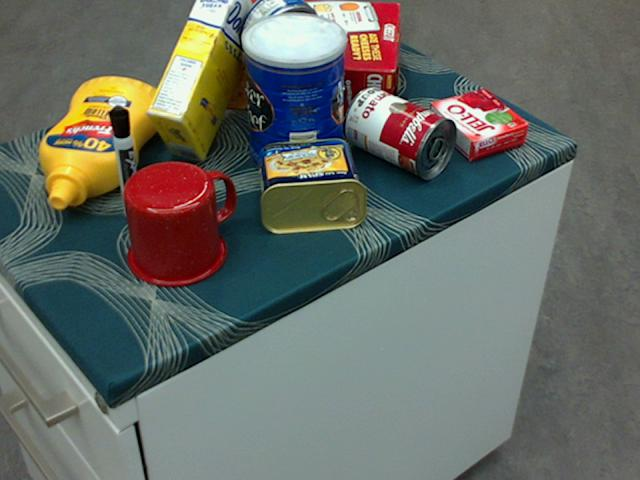cracker_box: (203, 0, 398, 117)
gelatin_box: (428, 89, 528, 159)
large_marker: (107, 105, 144, 218)
master_chef_can: (241, 12, 346, 181)
mug: (123, 159, 236, 286)
mustard_bottle: (38, 77, 163, 208)
potted_meat_can: (256, 135, 367, 235)
sugar_box: (146, 0, 259, 162)
tomato_soup_can: (343, 86, 457, 179)
tuna_fish_can: (238, 0, 320, 72)
